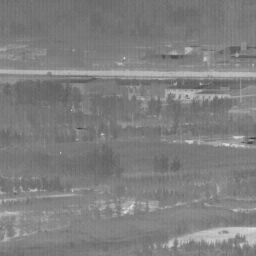aircraft: (70, 110, 72, 112)
